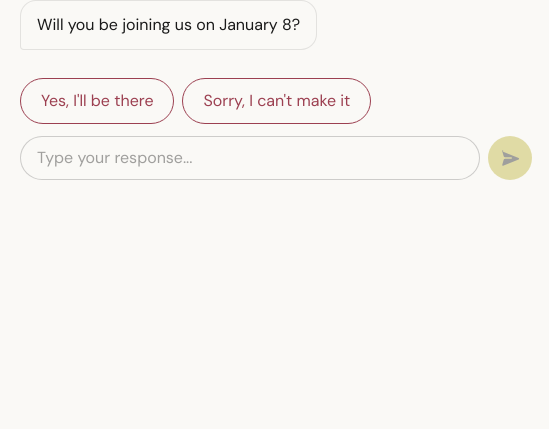
Test: RSVPChat parking question (ADR-0008) › rejects text that is not a plate and keeps asking
Click the button "Yes, I'll be there": (97, 101) [20, 78, 174, 124]
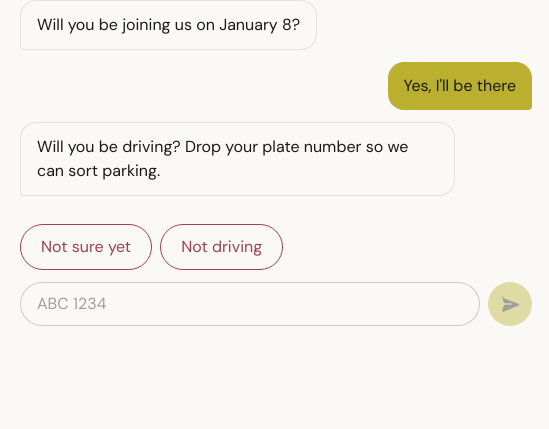
Check: the text "plate number" is shown, box [37, 136, 408, 181]
In the field named "Car plate number": (250, 304) [20, 282, 480, 326], type "xx"
Then press Enter
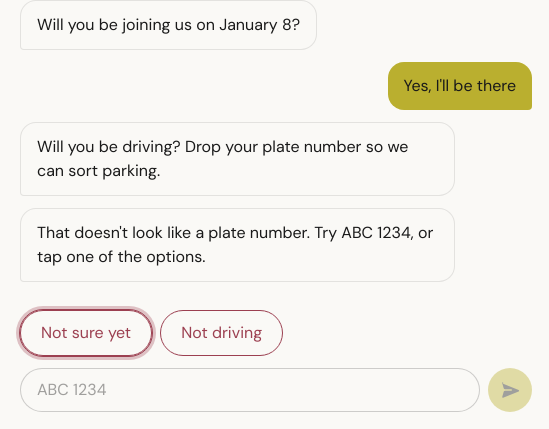
Check: the button "Not sure yet" is shown, box [20, 310, 152, 356]
Check: the text "doesn't look like a plate" is shown, box [37, 222, 433, 267]
